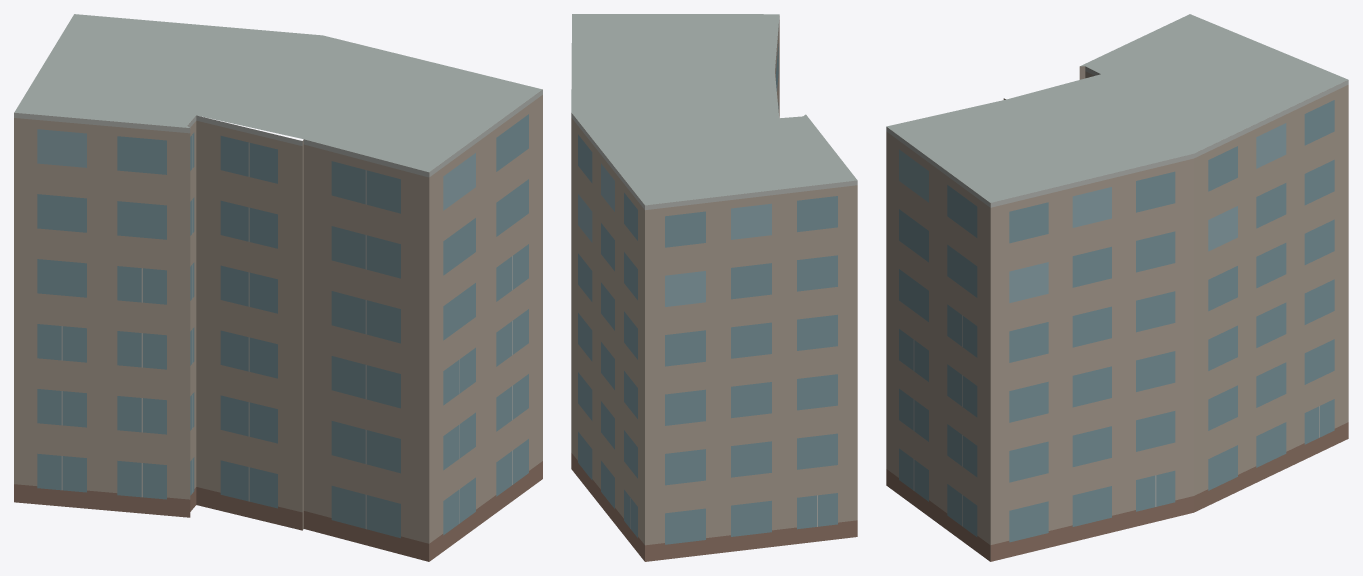
File: survey-upis-32881018.glb
3 renders of one model, left to right at view 1: azimuth 30°, elevation 25°; view 2: azimuth 150°, elevation 25°; view 3: azimuth 270°, elevation 25°, orthographic. The views are drawn at different scales.
Parts seen in each view (by area): view 1: survey-upis-32881018.tmp; view 2: survey-upis-32881018.tmp; view 3: survey-upis-32881018.tmp.
Boxes of the visible parts, x1,y1,x2,y2 form: survey-upis-32881018.tmp: (14, 14, 542, 561); survey-upis-32881018.tmp: (571, 14, 857, 561); survey-upis-32881018.tmp: (886, 14, 1348, 561).
Bounding box in the file's own units: 20.68 × 18.3 × 21.38.
